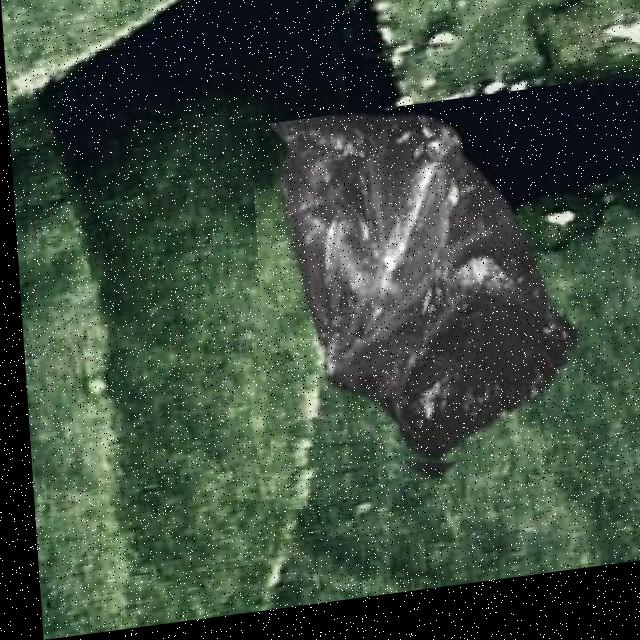litter: (246, 98, 598, 509)
